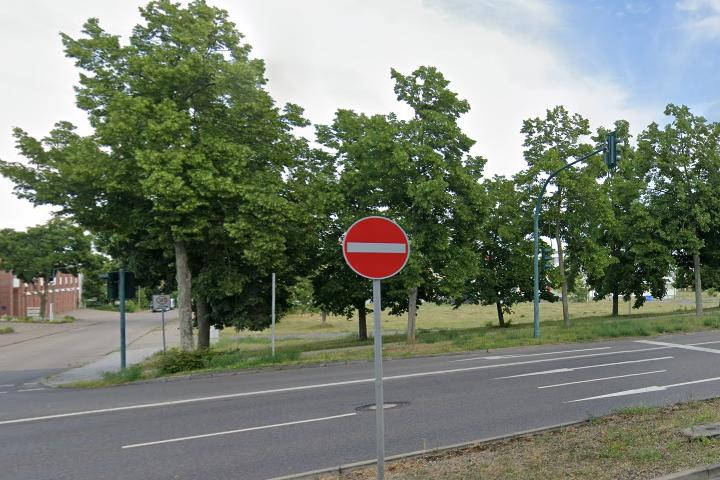traffic_sign: (341, 216, 410, 279)
